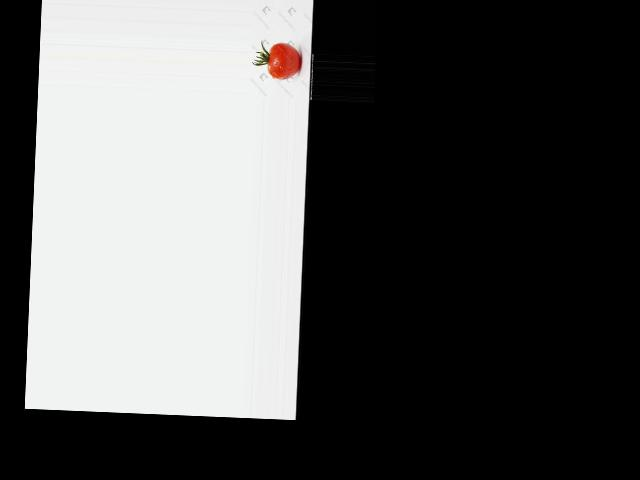tomato: (268, 41, 301, 79)
